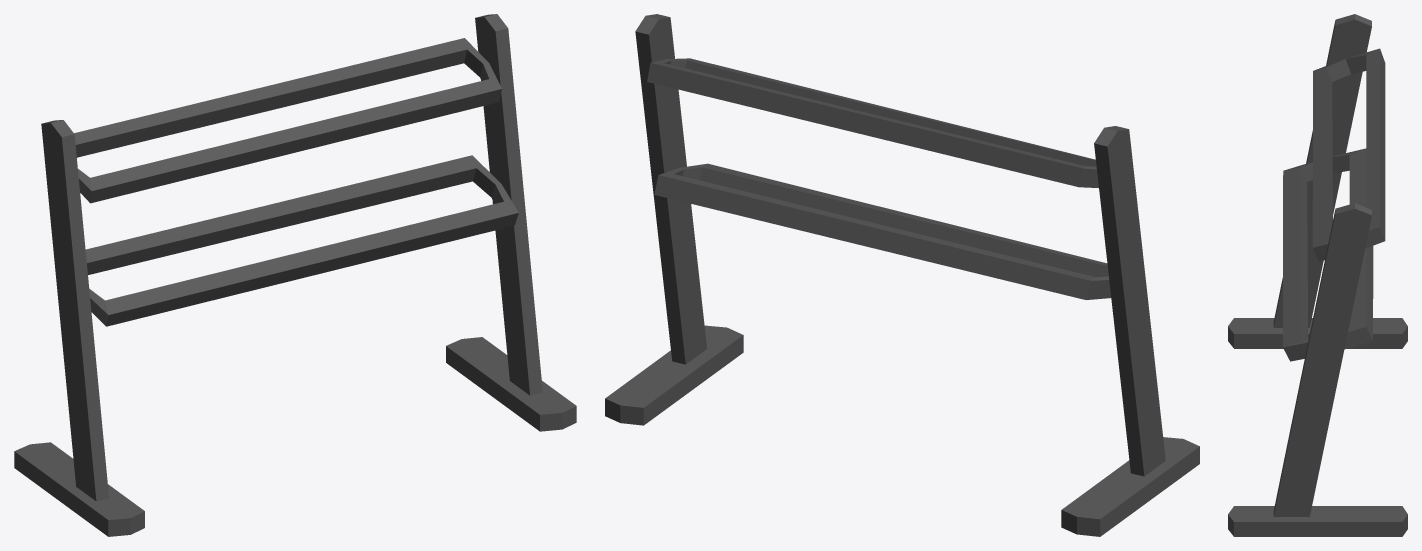
The model's file is Gym_Stand.fbx.
3 views of the same model, side by side, from view 1: azimuth 30°, elevation 25°; view 2: azimuth 150°, elevation 25°; view 3: azimuth 270°, elevation 25° (orthographic). The views are drawn at different scales.
Visible parts, largest first — view 1: Gym_Stand; view 2: Gym_Stand; view 3: Gym_Stand.
Part boxes in pixels (bbox=[...]): Gym_Stand: bbox=[14, 14, 576, 536]; Gym_Stand: bbox=[605, 14, 1199, 536]; Gym_Stand: bbox=[1228, 14, 1407, 536].
Bounding box in the file's own units: 160 × 59.52 × 119.
